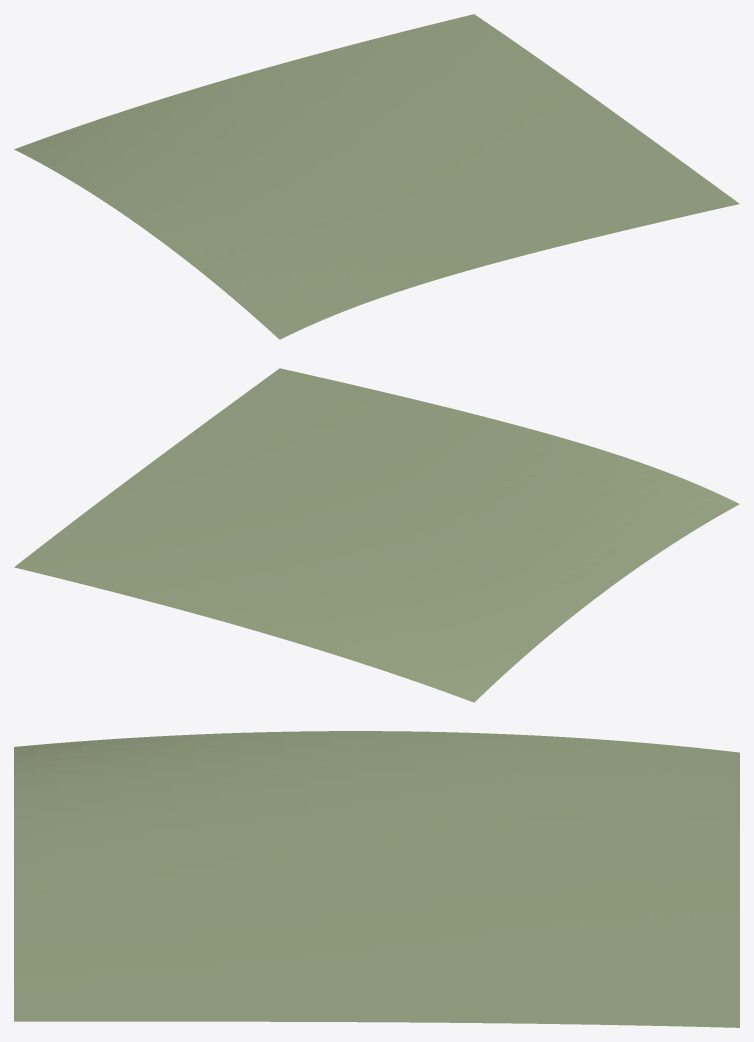
Rendered from expanse-13-21.glb.
3 views of the same model, one above another, from view 1: azimuth 30°, elevation 25°; view 2: azimuth 150°, elevation 25°; view 3: azimuth 270°, elevation 25° (orthographic). The views are drawn at different scales.
Parts seen in each view (by area): view 1: expanse-13-21; view 2: expanse-13-21; view 3: expanse-13-21.
Boxes of the visible parts, left/top/right/bottom form: expanse-13-21: left=14, top=14, right=739, bottom=339; expanse-13-21: left=14, top=368, right=739, bottom=702; expanse-13-21: left=14, top=731, right=739, bottom=1027.
Bounding box in the file's own units: 256 × 15.67 × 256.
